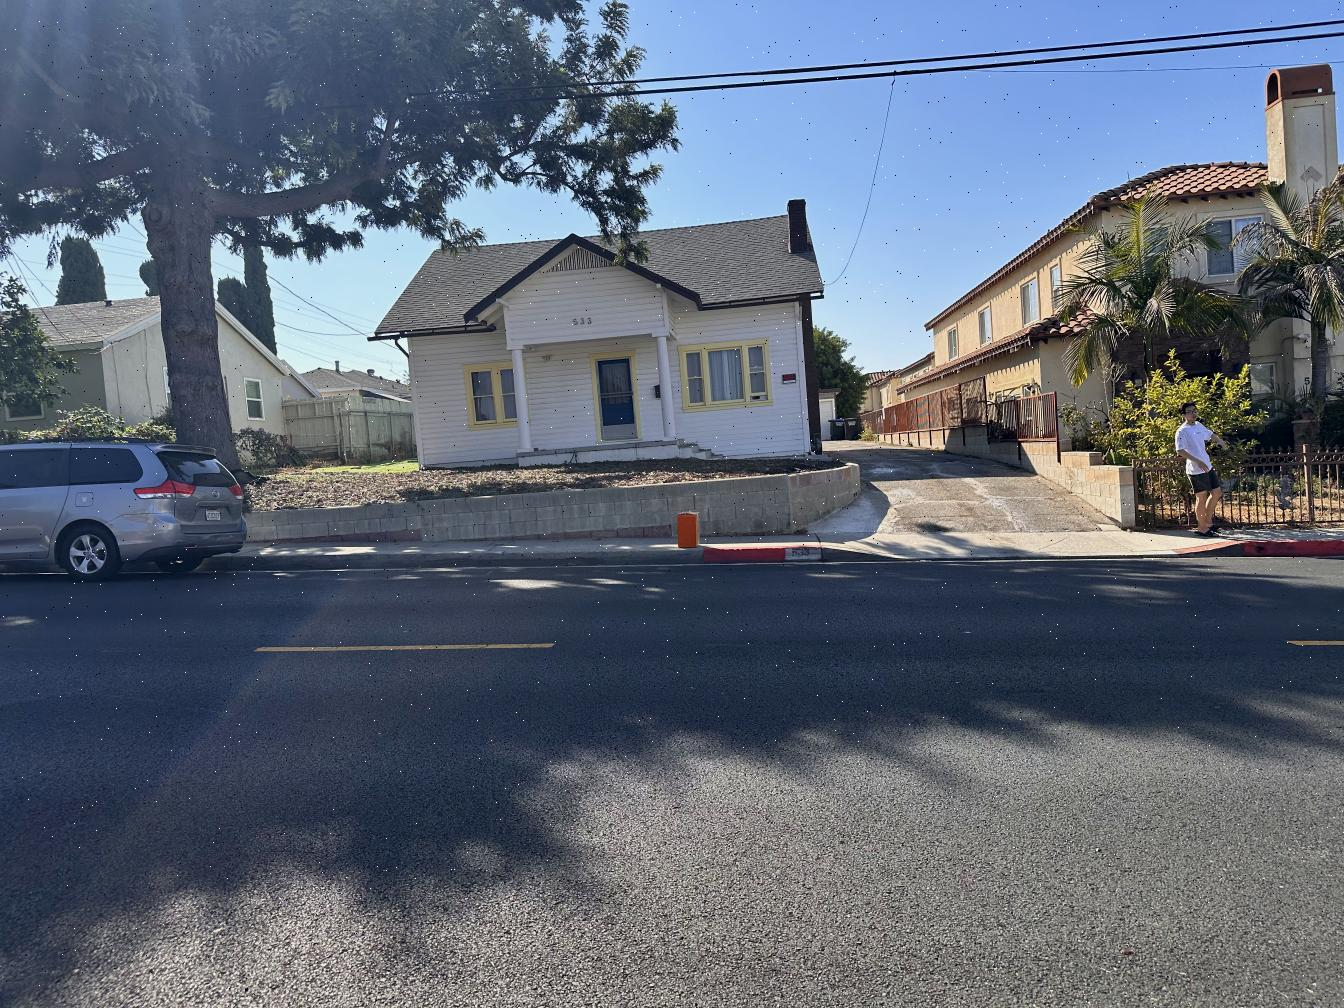curbs-laRr: (254, 548, 702, 568)
orange box: (677, 512, 700, 548)
